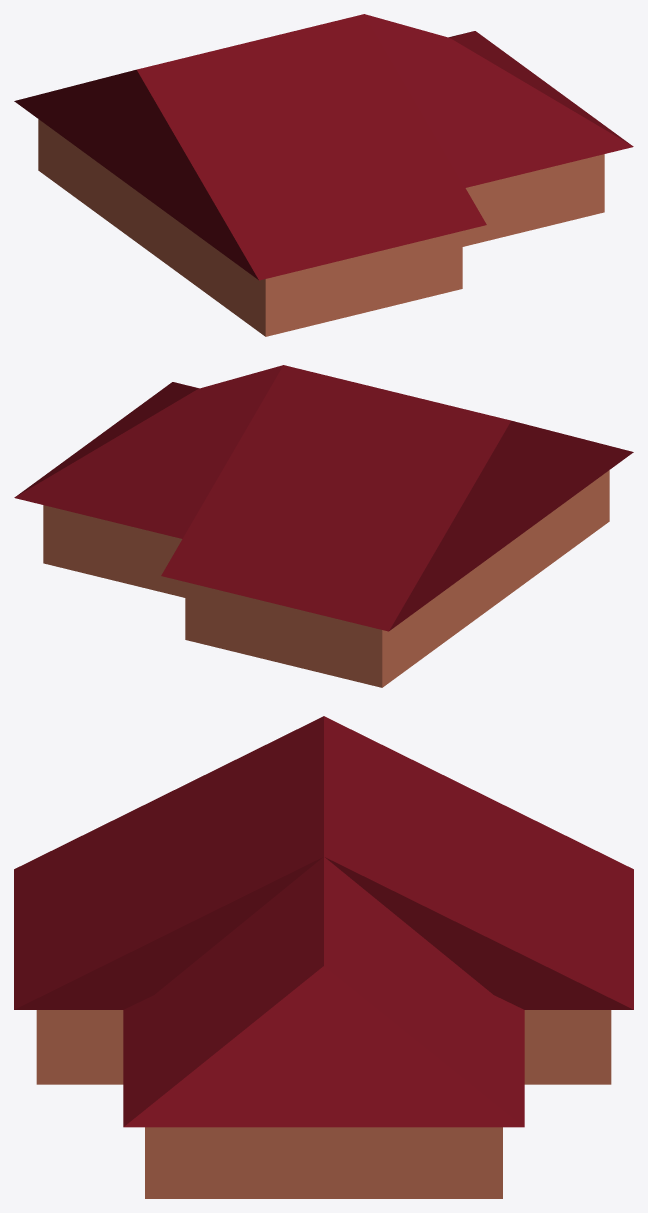
File: house3.fbx
The picture shows the model from 3 angles, top to bottom: view 1: azimuth 30°, elevation 25°; view 2: azimuth 150°, elevation 25°; view 3: azimuth 270°, elevation 25°; orthographic projection. The views are drawn at different scales.
Visible parts, largest first — view 1: house3; view 2: house3; view 3: house3.
Boxes of the visible parts, box(x1,y1,x2,y2) form: house3: box(14, 14, 633, 336); house3: box(14, 365, 633, 687); house3: box(14, 716, 633, 1198).
Bounding box in the file's own units: 4248 × 1825 × 4315.
